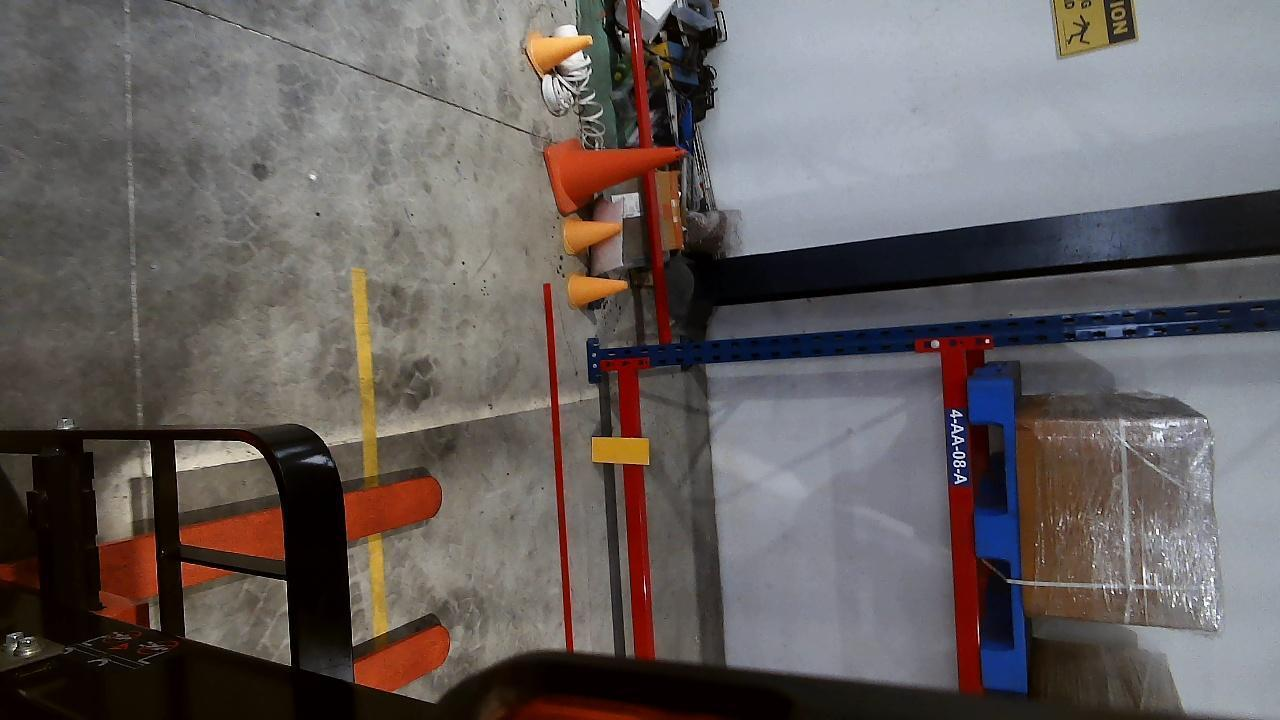red_line: (537, 282, 580, 647)
yellow_line: (354, 267, 394, 636)
